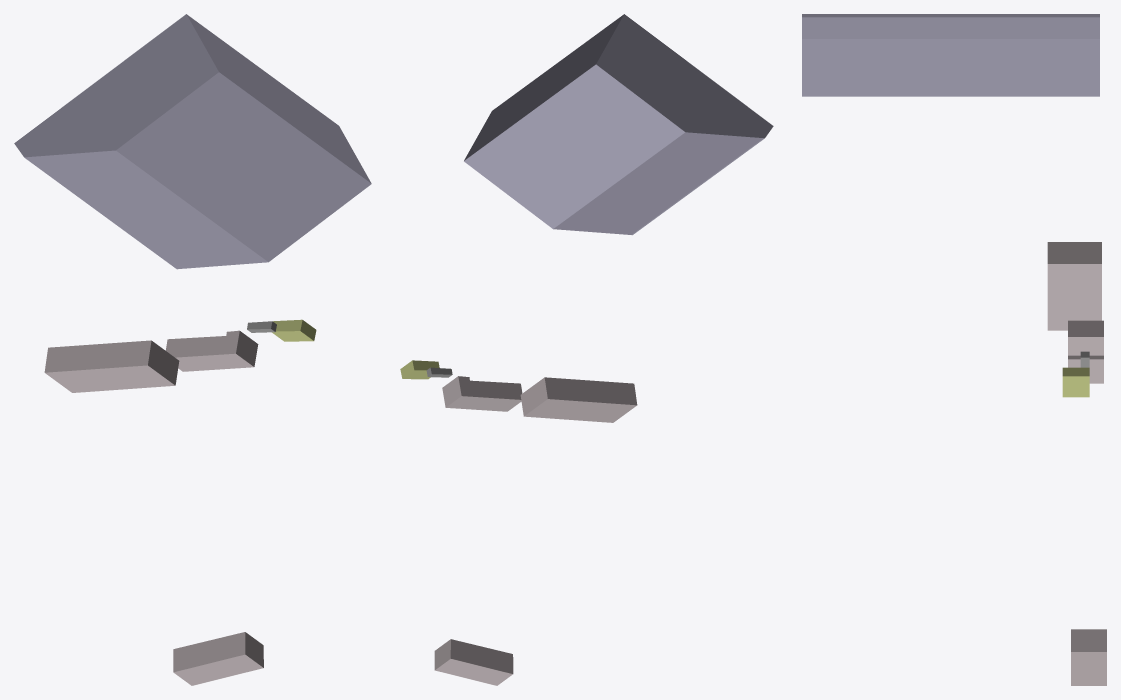
3 renders of one model, left to right at view 1: azimuth 30°, elevation 25°; view 2: azimuth 150°, elevation 25°; view 3: azimuth 270°, elevation 25°, orthographic. The views are drawn at different scales.
Visible parts, largest first — view 1: 0_3_0_2_1_2_1; view 2: 0_3_0_2_1_2_1; view 3: 0_3_0_2_1_2_1.
Boxes of the visible parts, <box> form: 0_3_0_2_1_2_1: <box>14,14,371,685</box>; 0_3_0_2_1_2_1: <box>400,14,773,685</box>; 0_3_0_2_1_2_1: <box>802,14,1106,685</box>.
Bounding box in the file's own units: 106 × 235 × 101.
